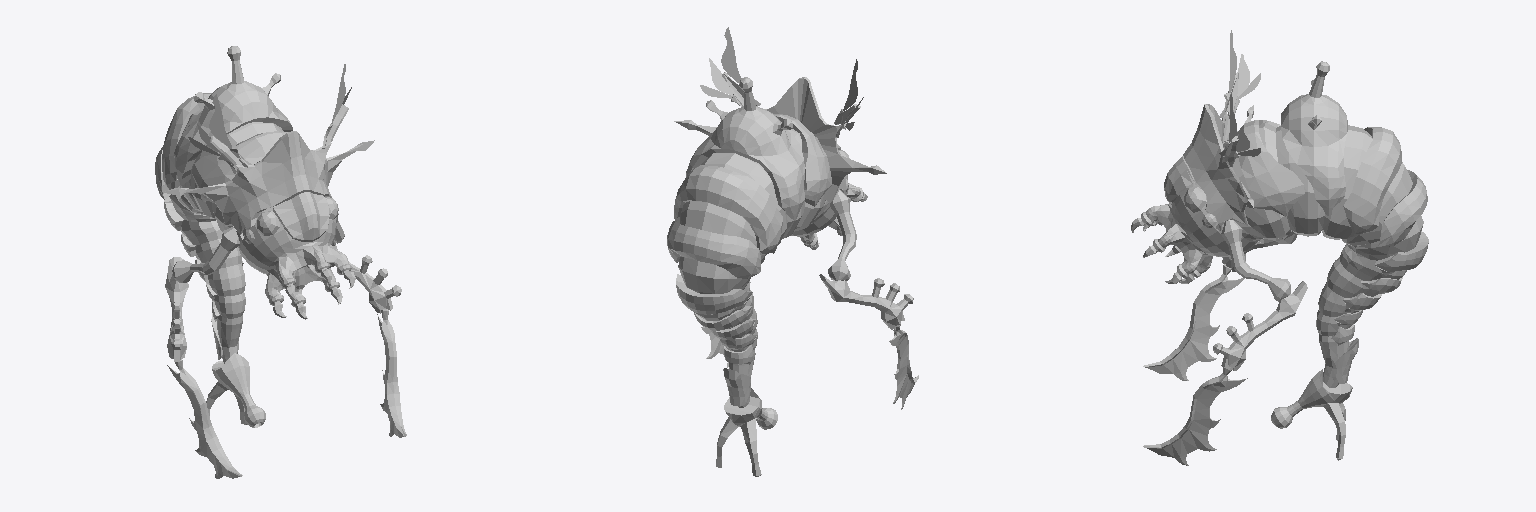
File: queen.obj
3 renders of one model, left to right at view 1: azimuth 30°, elevation 25°; view 2: azimuth 150°, elevation 25°; view 3: azimuth 270°, elevation 25°, orthographic.
Parts seen in each view (by area): view 1: queen-mesh, b_parts_01-mesh, queen_wings-mesh, b_parts_02-mesh; view 2: queen-mesh, b_parts_01-mesh, queen_wings-mesh; view 3: queen-mesh, b_parts_01-mesh, queen_wings-mesh, b_parts_02-mesh.
Part boxes in pixels (left/top/right/bottom): queen-mesh: left=155, top=104, right=401, bottom=478; b_parts_01-mesh: left=162, top=46, right=292, bottom=200; queen_wings-mesh: left=188, top=64, right=351, bottom=155; b_parts_02-mesh: left=380, top=382, right=406, bottom=437; queen-mesh: left=667, top=72, right=918, bottom=476; b_parts_01-mesh: left=674, top=77, right=804, bottom=253; queen_wings-mesh: left=700, top=27, right=863, bottom=130; queen-mesh: left=1131, top=73, right=1428, bottom=460; b_parts_01-mesh: left=1281, top=61, right=1401, bottom=236; queen_wings-mesh: left=1229, top=30, right=1260, bottom=156; b_parts_02-mesh: left=1143, top=417, right=1216, bottom=465.
Bounding box in the file's own units: 492 × 802 × 555.